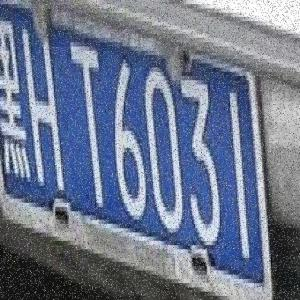Plate: (1, 0, 278, 300)
